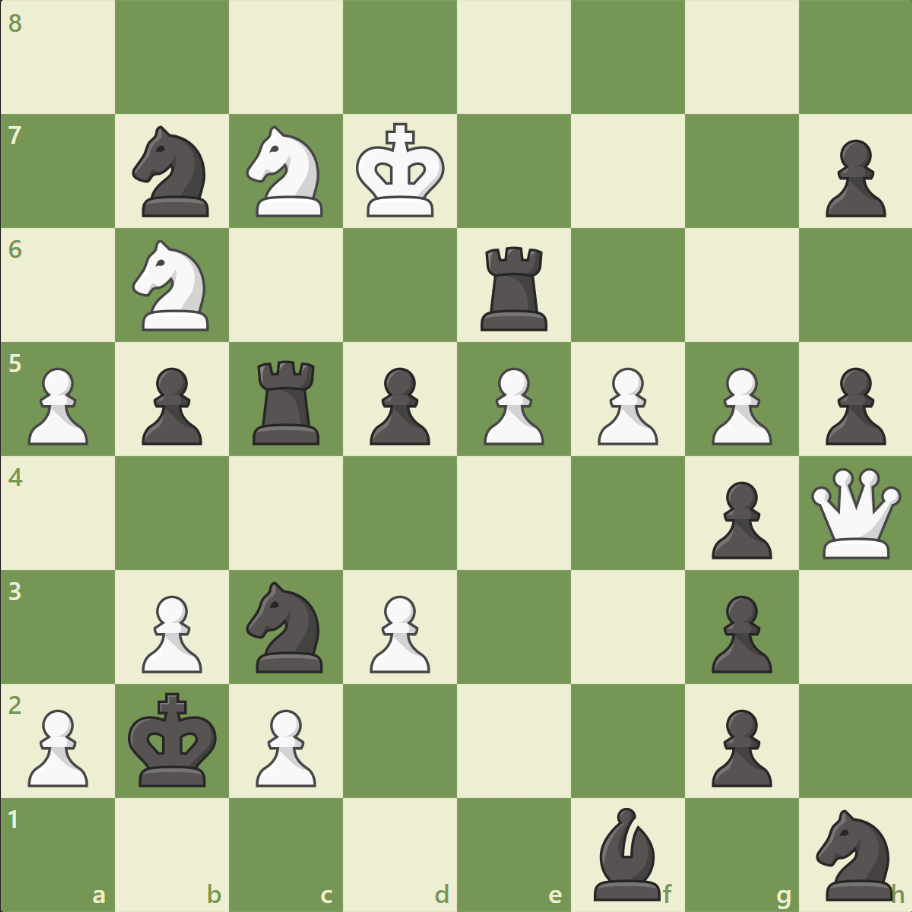K: (351, 117, 451, 225)
N: (124, 234, 222, 337), (238, 121, 335, 223)
P: (20, 359, 95, 450), (474, 359, 549, 450), (701, 359, 776, 450), (133, 586, 208, 677), (20, 700, 95, 791), (247, 700, 322, 791), (588, 359, 662, 450), (361, 586, 435, 677)
Q: (805, 463, 904, 562)
b: (585, 801, 669, 904)
k: (124, 685, 224, 793)
n: (124, 121, 222, 223), (238, 575, 335, 677), (806, 802, 903, 904)
p: (133, 359, 208, 450), (701, 473, 776, 564), (701, 586, 776, 677), (701, 700, 776, 791), (815, 132, 889, 223), (361, 359, 435, 450), (815, 359, 889, 450)
r: (473, 239, 556, 336), (246, 352, 329, 449)
